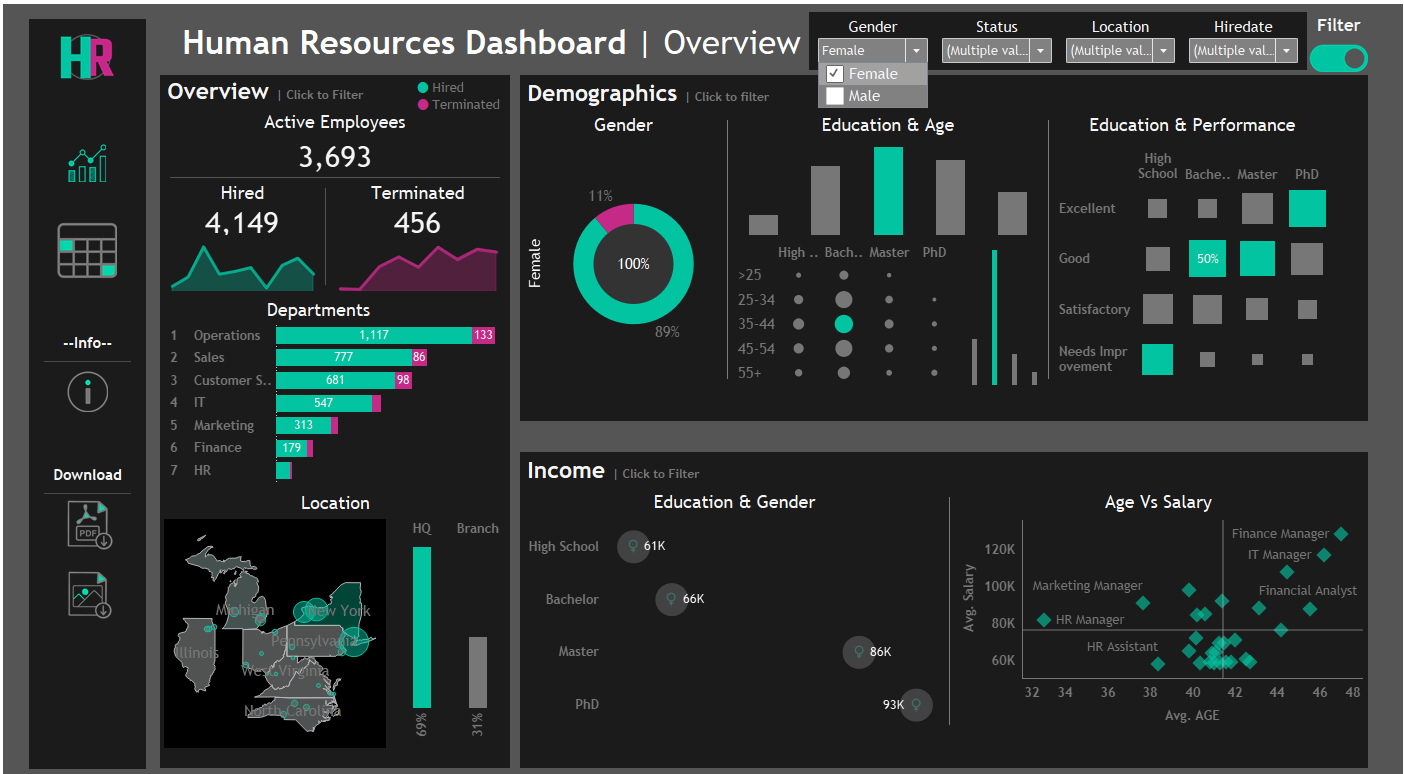

What the dashboard file says about the page in this screenshot:
{"tool":"tableau","page":{"name":"HR | Summary","canvas":[1400,800],"ordinal":1},"visuals":[{"type":"blank","box":[142,0,1257,266]},{"type":"text","box":[1286,6,100,30]},{"type":"text","box":[150,7,677.5,64]},{"type":"blank","box":[827.5,7,537.5,64]},{"type":"filter","title":"Education VS Gender Level","param":"[federated.1b5o2vp1k13vo616yvkzb0z88h2i].[none:Gender:nk]","box":[808,10,124,54]},{"type":"filter","title":"Education VS Gender Level","param":"[federated.1b5o2vp1k13vo616yvkzb0z88h2i].[none:Calculation_1937110847479668753:n","box":[932,10,124,54]},{"type":"filter","title":"Education VS Gender Level","param":"[federated.1b5o2vp1k13vo616yvkzb0z88h2i].[none:Calculation_1937110846422126599:n","box":[1056,10,123,54]},{"type":"filter","title":"Education VS Gender Level","param":"[federated.1b5o2vp1k13vo616yvkzb0z88h2i].[yr:Hiredate:ok]","box":[1179,10,123,54]},{"type":"image","param":"Image/Logo.png","box":[36,25,97,55]},{"type":"dashboard-object","box":[1306,35,59,39]},{"type":"text","box":[157,71,350,32]},{"type":"text","box":[517,71,848,35]},{"type":"text","box":[411,76,89,36]},{"type":"blank","box":[36,80,97,60]},{"type":"text","box":[157,103,350,29]},{"type":"text","box":[517,106,207,29]},{"type":"blank","box":[724,106,1,279]},{"type":"text","box":[725,106,320,29]},{"type":"blank","box":[1045,106,1,279]},{"type":"text","box":[1046,106,287,29]},{"type":"worksheet","title":"Active","mark":"Text","box":[157,132,350,41]},{"type":"worksheet","title":"Gender","mark":"Pie","rows":["Gender"],"cols":["Calculation_1937110846429085710","Calculation_1937110846429085710"],"box":[517,135,207,250]},{"type":"worksheet","title":"Age Group","mark":"Bar","rows":["Calculation_1937110846402056192"],"cols":["Calculation_1937110846440509456"],"box":[725,135,320,100]},{"type":"worksheet","title":"Education VS Performance","mark":"Square","rows":["Performance Rating"],"cols":["Education Level"],"box":[1046,135,287,250]},{"type":"dashboard-object","box":[36,140,97,38]},{"type":"blank","box":[157,173,350,1]},{"type":"text","box":[157,174,165,29]},{"type":"blank","box":[322,174,1,117]},{"type":"text","box":[323,174,184,29]},{"type":"blank","box":[36,178,97,38]},{"type":"worksheet","title":"HIRED","mark":"Text","box":[157,203,165,32]},{"type":"worksheet","title":"Terminated","mark":"Text","box":[323,203,184,32]},{"type":"dashboard-object","box":[36,216,97,60]},{"type":"worksheet","title":"Hired by Years","mark":"Line","rows":["Calculation_1937110846402056192","Calculation_1937110846402056192"],"cols":["Hiredate"],"box":[157,235,165,56]},{"type":"worksheet","title":"Terminated by Years","mark":"Line","rows":["Calculation_1937110846402326529","Calculation_1937110846402326529"],"cols":["Termdate"],"box":[323,235,184,56]},{"type":"worksheet","title":"Age VS Education","mark":"Pie","rows":["Calculation_1937110846440509456"],"cols":["Education Level"],"box":[725,235,233,150]},{"type":"worksheet","title":"Education Level","mark":"Bar","rows":["Calculation_1937110846402056192"],"cols":["Education Level"],"box":[958,235,87,150]},{"type":"text","box":[142,266,1257,267]},{"type":"blank","box":[36,276,97,50]},{"type":"blank","box":[157,291,92,25]},{"type":"text","box":[249,291,133,25]},{"type":"blank","box":[382,291,125,25]},{"type":"worksheet","title":"Departments","mark":"Bar","rows":["Calculation_1937110846415405062","Department"],"cols":["Calculation_1937110846402056192"],"box":[157,316,350,166]},{"type":"text","box":[36,326,97,26]},{"type":"blank","box":[36,352,97,11]},{"type":"dashboard-object","box":[36,363,97,49]},{"type":"blank","box":[36,412,97,46]},{"type":"text","box":[517,448.5,848,35]},{"type":"text","box":[36,458,97,26]},{"type":"text","box":[517,483.5,429.5,29]},{"type":"blank","box":[946.5,483.5,1,248]},{"type":"text","box":[947.5,483.5,417.5,29]},{"type":"blank","box":[36,484,97,11]},{"type":"blank","box":[167,487,112.7,24]},{"type":"text","box":[279.7,487,104.7,24]},{"type":"blank","box":[384.3,487,112.7,24]},{"type":"dashboard-object","box":[36,495,97,51]},{"type":"worksheet","title":"MAP STATE","mark":"Automatic","box":[157,511,230.5,237]},{"type":"worksheet","title":"Location","mark":"Bar","rows":["Calculation_1937110846402056192"],"cols":["Calculation_1937110846422126599","Calculation1"],"box":[387.5,511,119.5,237]},{"type":"worksheet","title":"Education VS Gender Level","mark":"Square","rows":["Education Level"],"cols":["Salary","Salary"],"box":[517,512.5,429.5,219]},{"type":"worksheet","title":"Age VS Salary","mark":"Shape","rows":["Salary"],"cols":["Calculation_1937110846439919631"],"box":[947.5,512.5,417.5,219]},{"type":"blank","box":[142,533,1257,267]},{"type":"blank","box":[36,546,97,20]},{"type":"dashboard-object","box":[36,566,97,49]}]}

Visuals, with their boxes on the page's 1400x800 design canvas (x1, y1, x2, y2). These are canvas units, not pixel positions in the 1404x774 screenshot, which may show the page scaled, cropped or inside an application window:
blank: [left=142, top=0, right=1399, bottom=266]
text: [left=1286, top=6, right=1386, bottom=36]
text: [left=150, top=7, right=828, bottom=71]
blank: [left=828, top=7, right=1365, bottom=71]
"Education VS Gender Level" filter: [left=808, top=10, right=932, bottom=64]
"Education VS Gender Level" filter: [left=932, top=10, right=1056, bottom=64]
"Education VS Gender Level" filter: [left=1056, top=10, right=1179, bottom=64]
"Education VS Gender Level" filter: [left=1179, top=10, right=1302, bottom=64]
image: [left=36, top=25, right=133, bottom=80]
dashboard-object: [left=1306, top=35, right=1365, bottom=74]
text: [left=157, top=71, right=507, bottom=103]
text: [left=517, top=71, right=1365, bottom=106]
text: [left=411, top=76, right=500, bottom=112]
blank: [left=36, top=80, right=133, bottom=140]
text: [left=157, top=103, right=507, bottom=132]
text: [left=517, top=106, right=724, bottom=135]
blank: [left=724, top=106, right=725, bottom=385]
text: [left=725, top=106, right=1045, bottom=135]
blank: [left=1045, top=106, right=1046, bottom=385]
text: [left=1046, top=106, right=1333, bottom=135]
"Active" worksheet (Text marks): [left=157, top=132, right=507, bottom=173]
"Gender" worksheet (Pie marks): [left=517, top=135, right=724, bottom=385]
"Age Group" worksheet (Bar marks): [left=725, top=135, right=1045, bottom=235]
"Education VS Performance" worksheet (Square marks): [left=1046, top=135, right=1333, bottom=385]
dashboard-object: [left=36, top=140, right=133, bottom=178]
blank: [left=157, top=173, right=507, bottom=174]
text: [left=157, top=174, right=322, bottom=203]
blank: [left=322, top=174, right=323, bottom=291]
text: [left=323, top=174, right=507, bottom=203]
blank: [left=36, top=178, right=133, bottom=216]
"HIRED" worksheet (Text marks): [left=157, top=203, right=322, bottom=235]
"Terminated" worksheet (Text marks): [left=323, top=203, right=507, bottom=235]
dashboard-object: [left=36, top=216, right=133, bottom=276]
"Hired by Years" worksheet (Line marks): [left=157, top=235, right=322, bottom=291]
"Terminated by Years" worksheet (Line marks): [left=323, top=235, right=507, bottom=291]
"Age VS Education" worksheet (Pie marks): [left=725, top=235, right=958, bottom=385]
"Education Level" worksheet (Bar marks): [left=958, top=235, right=1045, bottom=385]
text: [left=142, top=266, right=1399, bottom=533]
blank: [left=36, top=276, right=133, bottom=326]
blank: [left=157, top=291, right=249, bottom=316]
text: [left=249, top=291, right=382, bottom=316]
blank: [left=382, top=291, right=507, bottom=316]
"Departments" worksheet (Bar marks): [left=157, top=316, right=507, bottom=482]
text: [left=36, top=326, right=133, bottom=352]
blank: [left=36, top=352, right=133, bottom=363]
dashboard-object: [left=36, top=363, right=133, bottom=412]
blank: [left=36, top=412, right=133, bottom=458]
text: [left=517, top=448, right=1365, bottom=484]
text: [left=36, top=458, right=133, bottom=484]
text: [left=517, top=484, right=946, bottom=512]
blank: [left=946, top=484, right=948, bottom=732]
text: [left=948, top=484, right=1365, bottom=512]
blank: [left=36, top=484, right=133, bottom=495]
blank: [left=167, top=487, right=280, bottom=511]
text: [left=280, top=487, right=384, bottom=511]
blank: [left=384, top=487, right=497, bottom=511]
dashboard-object: [left=36, top=495, right=133, bottom=546]
"MAP STATE" worksheet: [left=157, top=511, right=388, bottom=748]
"Location" worksheet (Bar marks): [left=388, top=511, right=507, bottom=748]
"Education VS Gender Level" worksheet (Square marks): [left=517, top=512, right=946, bottom=732]
"Age VS Salary" worksheet (Shape marks): [left=948, top=512, right=1365, bottom=732]
blank: [left=142, top=533, right=1399, bottom=800]
blank: [left=36, top=546, right=133, bottom=566]
dashboard-object: [left=36, top=566, right=133, bottom=615]
